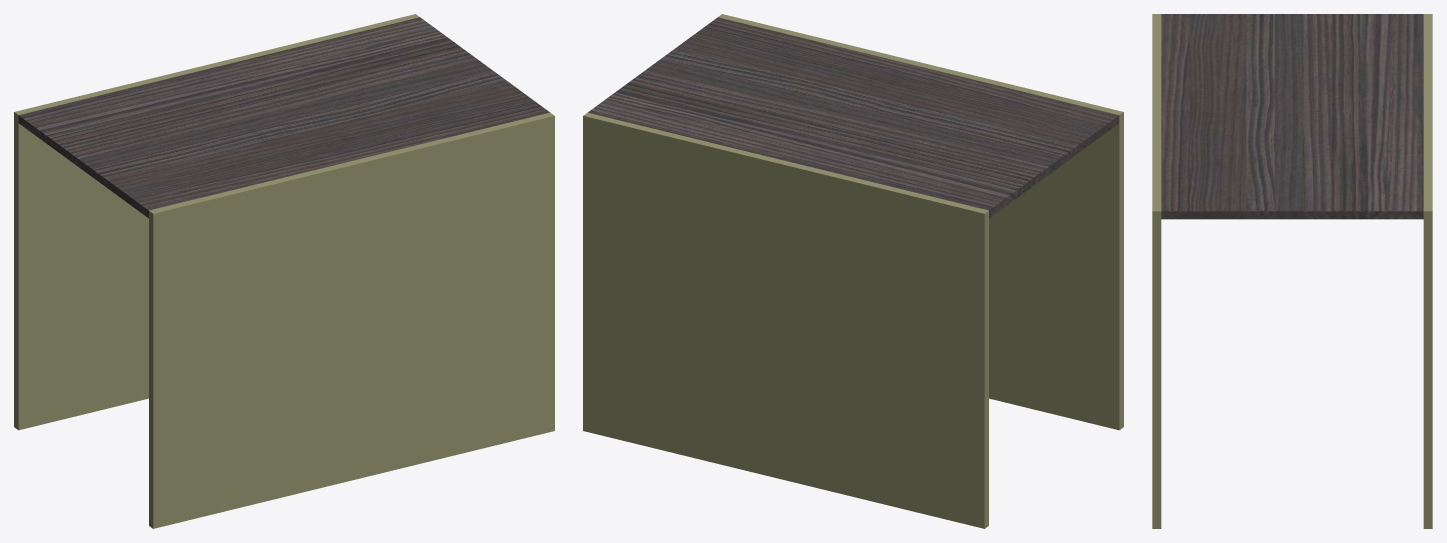
The model's file is TestGltf.dae.
The picture shows the model from 3 angles, left to right: view 1: azimuth 30°, elevation 25°; view 2: azimuth 150°, elevation 25°; view 3: azimuth 270°, elevation 25°; orthographic projection.
Visible parts, largest first — view 1: {291B4433-EB49-45d9-BD63-D293F7B6665F}_Node, {9EA63E16-5C23-4a19-86AB-0148EA8B6C4F}_Node, {040A51C9-BAC8-4deb-8C05-806E9ED4C98C}_Node; view 2: {040A51C9-BAC8-4deb-8C05-806E9ED4C98C}_Node, {9EA63E16-5C23-4a19-86AB-0148EA8B6C4F}_Node, {291B4433-EB49-45d9-BD63-D293F7B6665F}_Node; view 3: {9EA63E16-5C23-4a19-86AB-0148EA8B6C4F}_Node, {040A51C9-BAC8-4deb-8C05-806E9ED4C98C}_Node, {291B4433-EB49-45d9-BD63-D293F7B6665F}_Node.
Part boxes in pixels (left/top/right/bottom): {291B4433-EB49-45d9-BD63-D293F7B6665F}_Node: left=149, top=112, right=554, bottom=528; {9EA63E16-5C23-4a19-86AB-0148EA8B6C4F}_Node: left=18, top=17, right=549, bottom=218; {040A51C9-BAC8-4deb-8C05-806E9ED4C98C}_Node: left=14, top=14, right=419, bottom=430; {040A51C9-BAC8-4deb-8C05-806E9ED4C98C}_Node: left=583, top=112, right=988, bottom=528; {9EA63E16-5C23-4a19-86AB-0148EA8B6C4F}_Node: left=588, top=17, right=1119, bottom=218; {291B4433-EB49-45d9-BD63-D293F7B6665F}_Node: left=718, top=14, right=1123, bottom=430; {9EA63E16-5C23-4a19-86AB-0148EA8B6C4F}_Node: left=1161, top=14, right=1423, bottom=219; {040A51C9-BAC8-4deb-8C05-806E9ED4C98C}_Node: left=1423, top=14, right=1432, bottom=528; {291B4433-EB49-45d9-BD63-D293F7B6665F}_Node: left=1152, top=14, right=1161, bottom=528.
Size of the model in its own units: 1 by 0.75 by 0.6.
2 materials, 1 textured.
